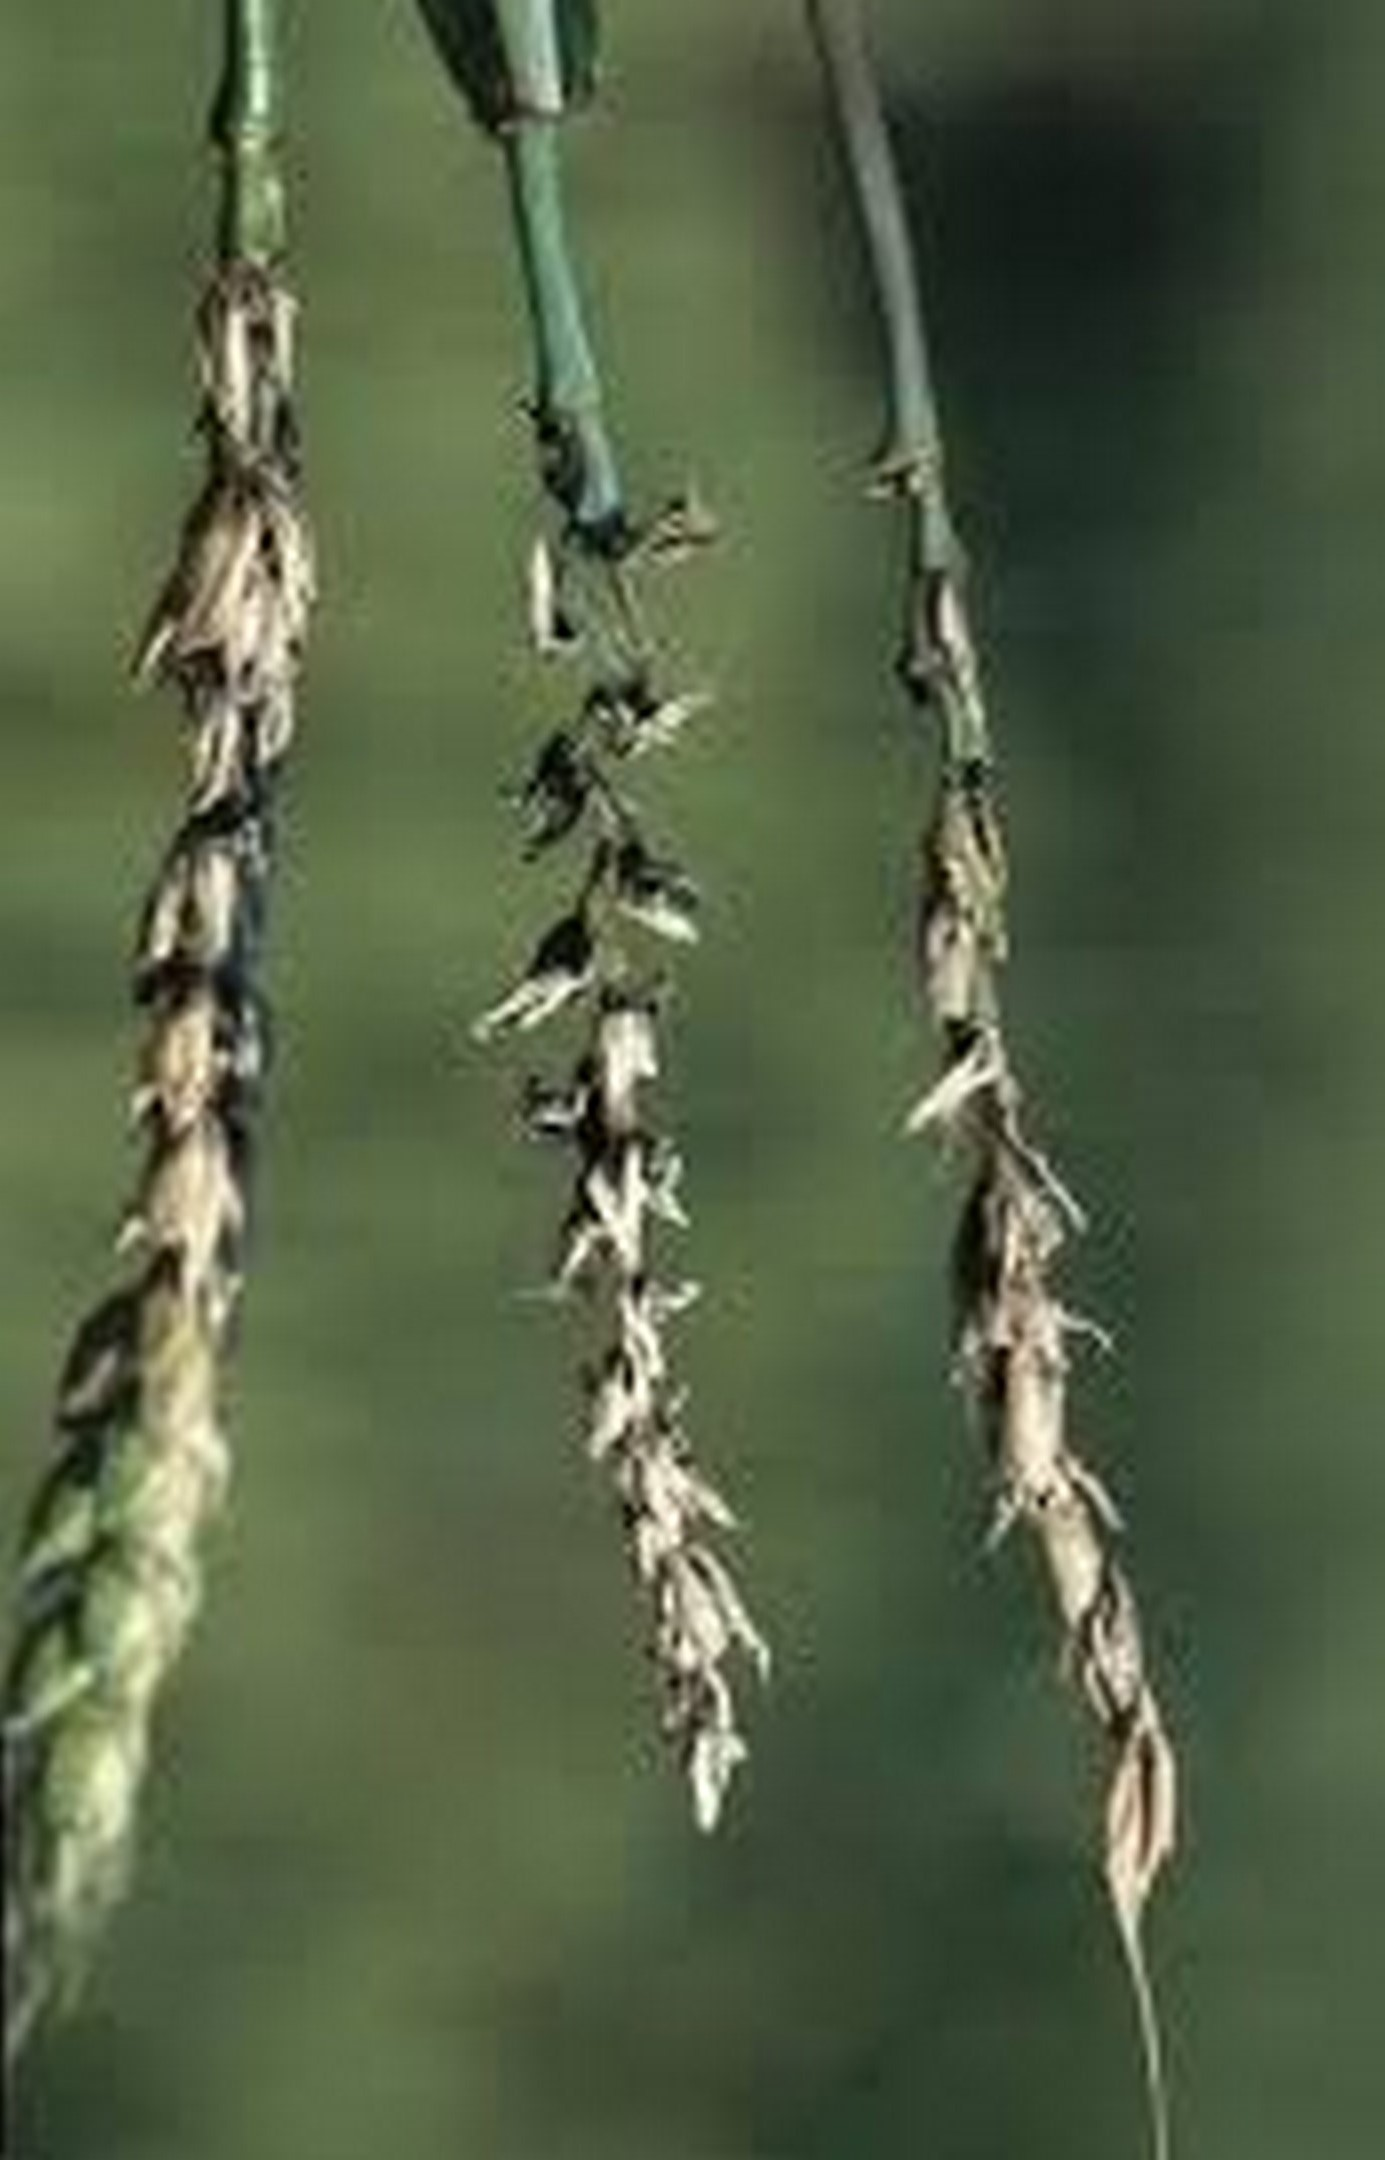Wheat Loose Smut: (63, 261, 1250, 1851)
